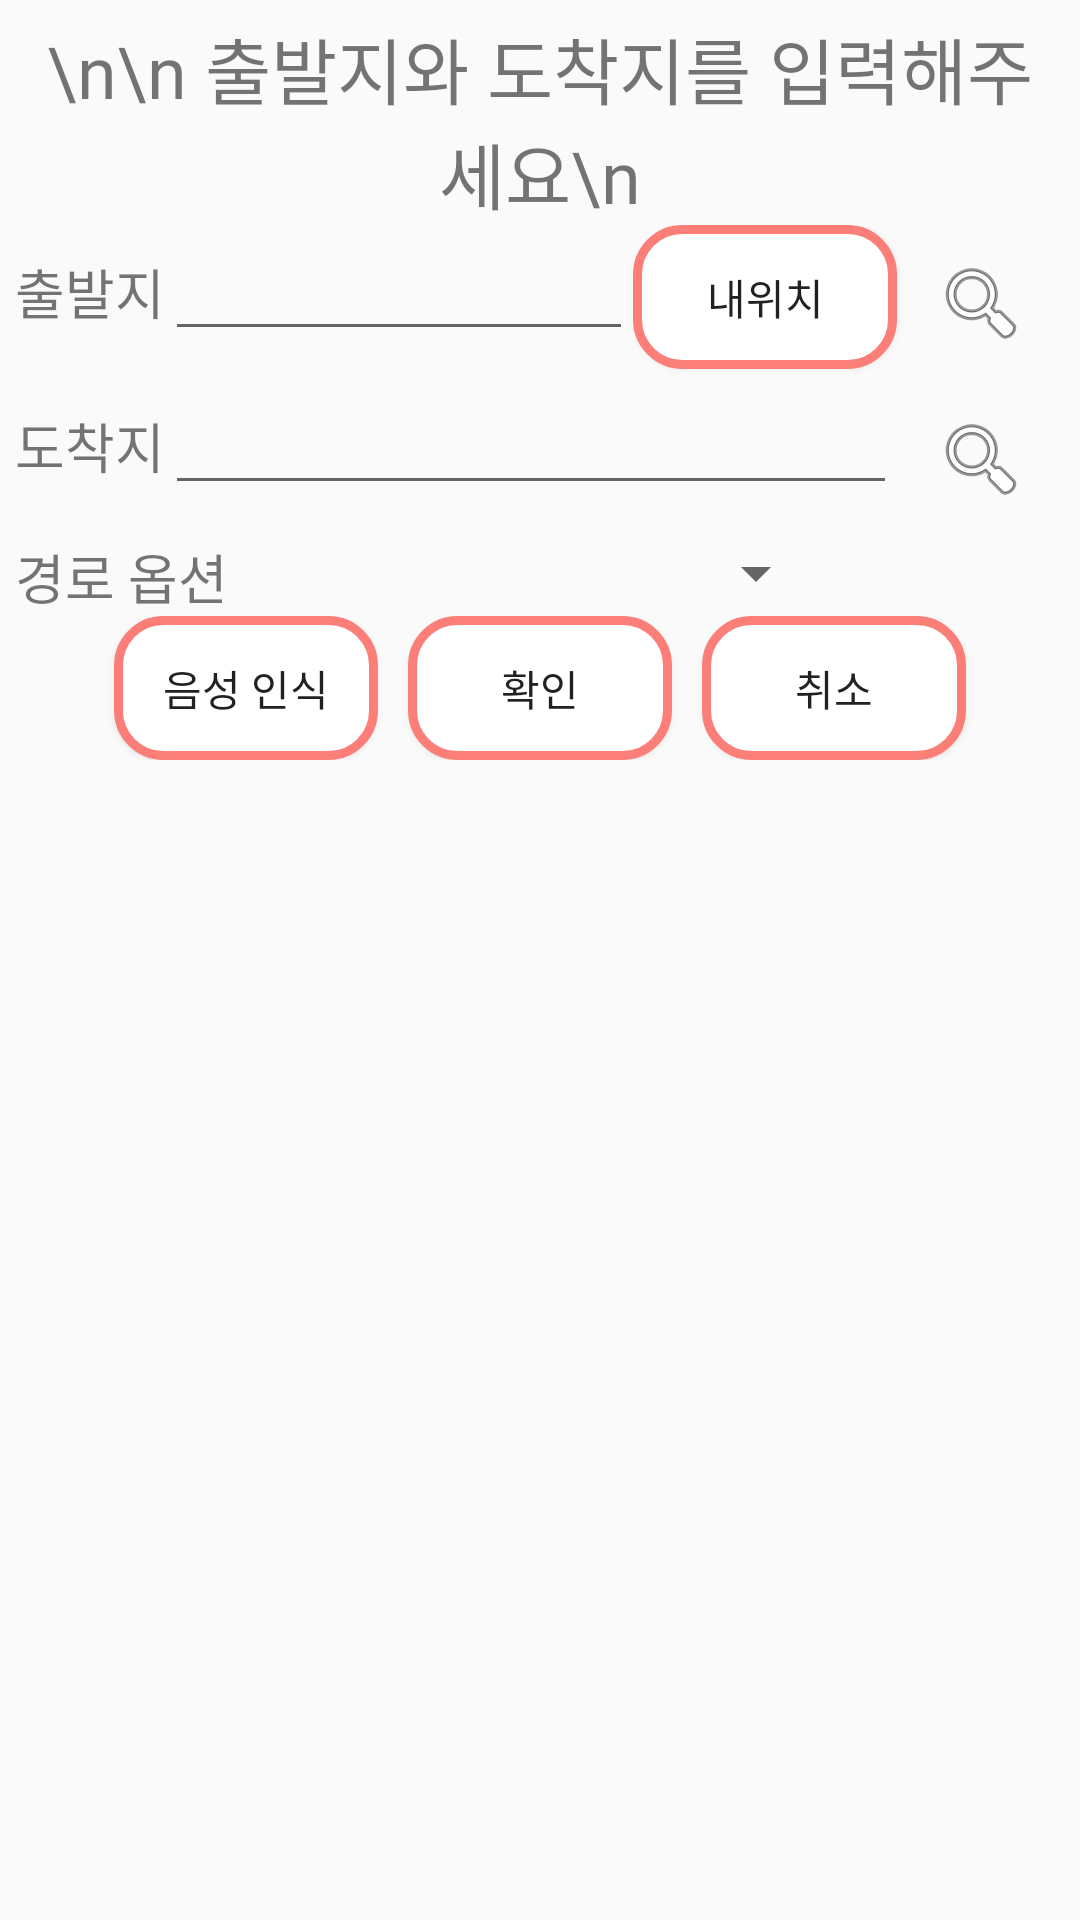

Named icons in this screenshot (1080w x 1920h) and their centers, (x=x, y=y):
search: (x=981, y=303), (x=981, y=459)
